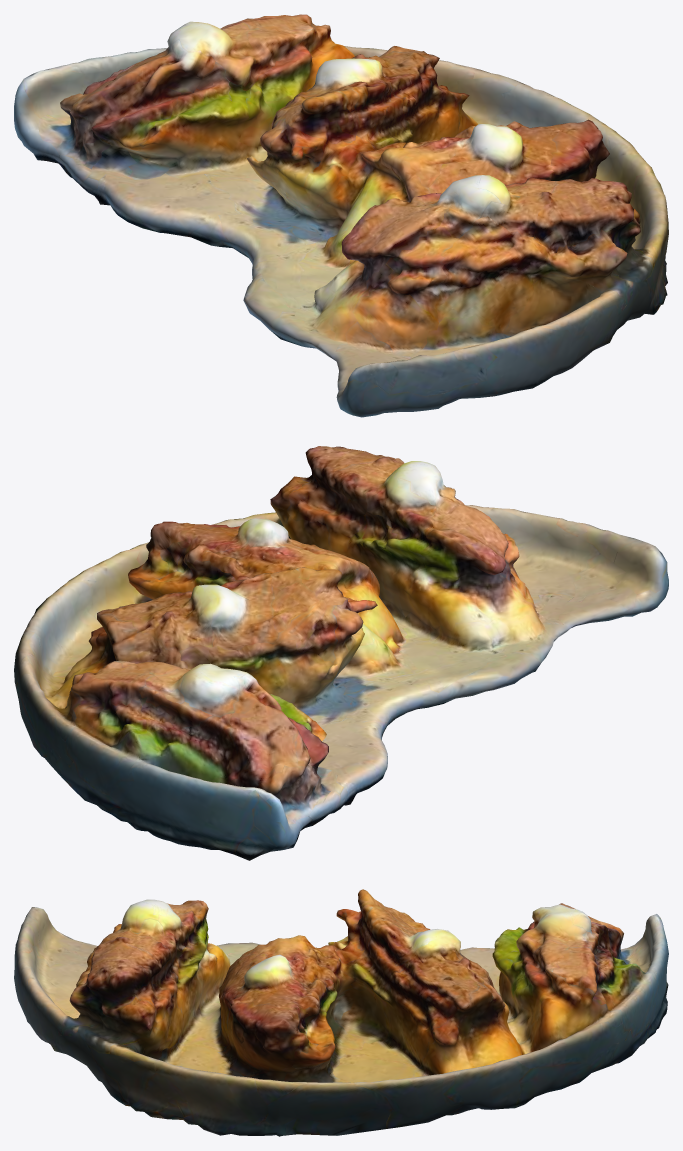
File: gauchos-steak-sandwich.glb
3 views of the same model, one above another, from view 1: azimuth 30°, elevation 25°; view 2: azimuth 150°, elevation 25°; view 3: azimuth 270°, elevation 25° (orthographic). The views are drawn at different scales.
Parts seen in each view (by area): view 1: dish; view 2: dish; view 3: dish.
Boxes of the visible parts, x1=… form: dish: x1=14, y1=14, x2=668, y2=417; dish: x1=14, y1=446, x2=668, y2=860; dish: x1=14, y1=889, x2=668, y2=1136.
Bounding box in the file's own units: 0.1841 × 0.0649 × 0.2763.
1 material, 1 textured.
